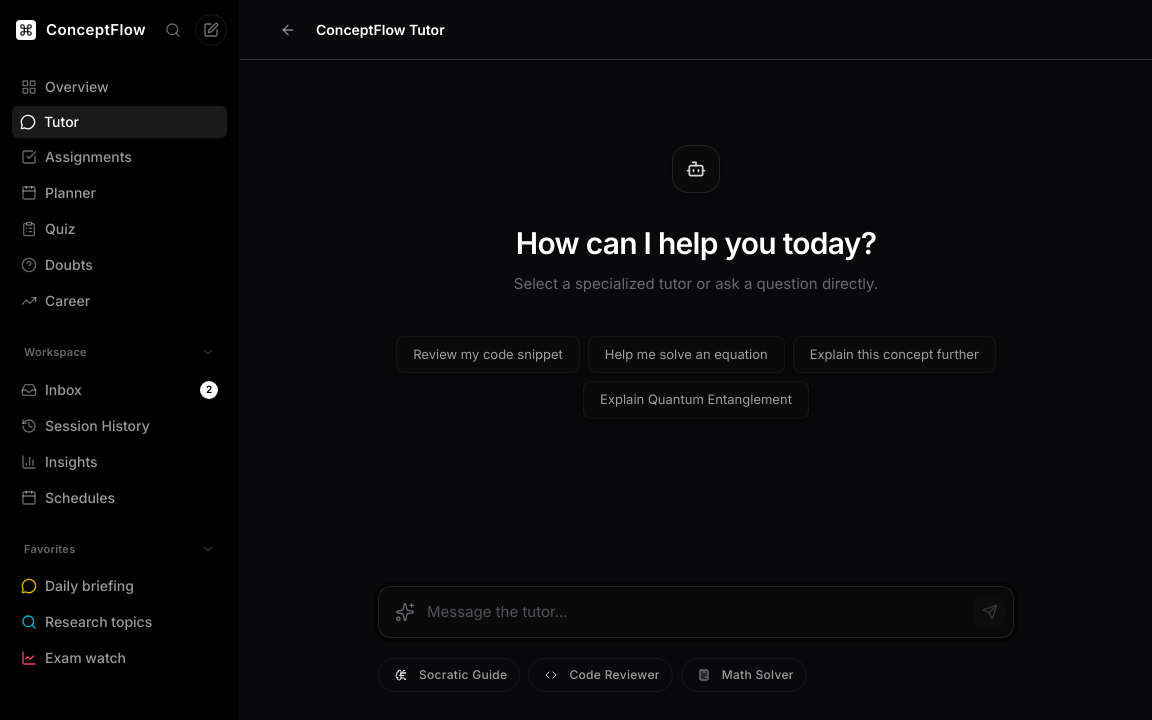
Test: Session & doubt resolution › Tutor page: chips fill the query and submit starts that topic; tutor cards prefill
Click the button "Explain Quantum Entanglement" at [696, 400], box [583,381,809,419]
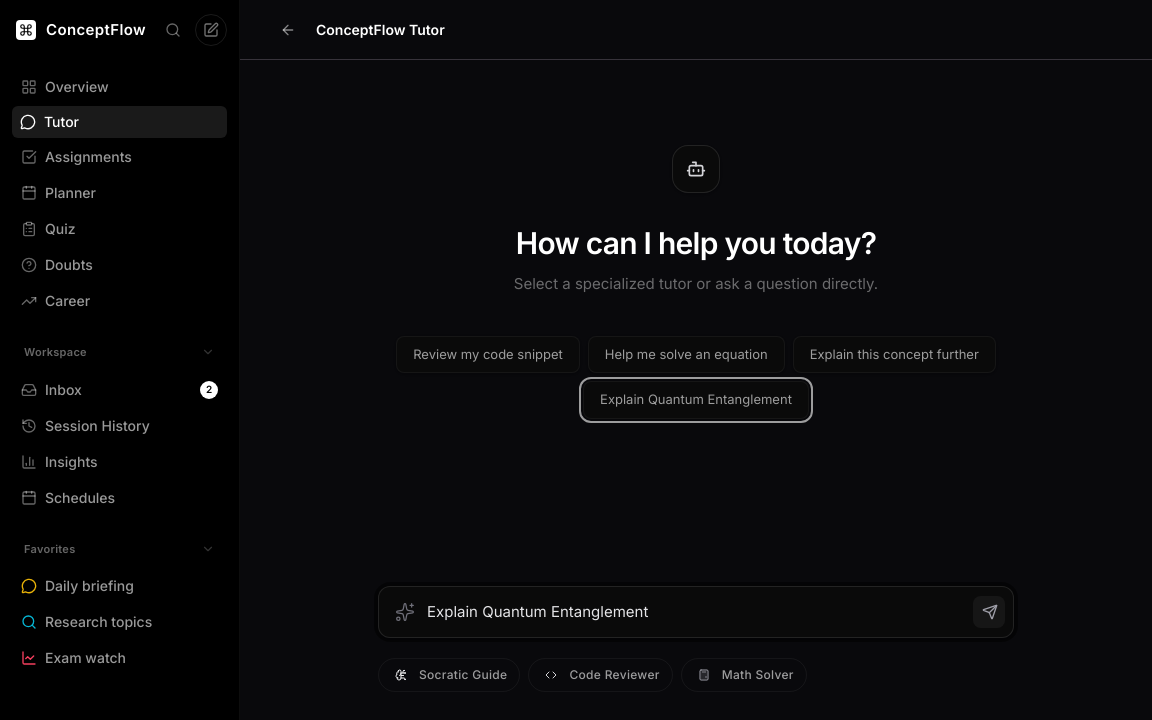
Click the submit button at [989, 612], box [973,596,1005,628]
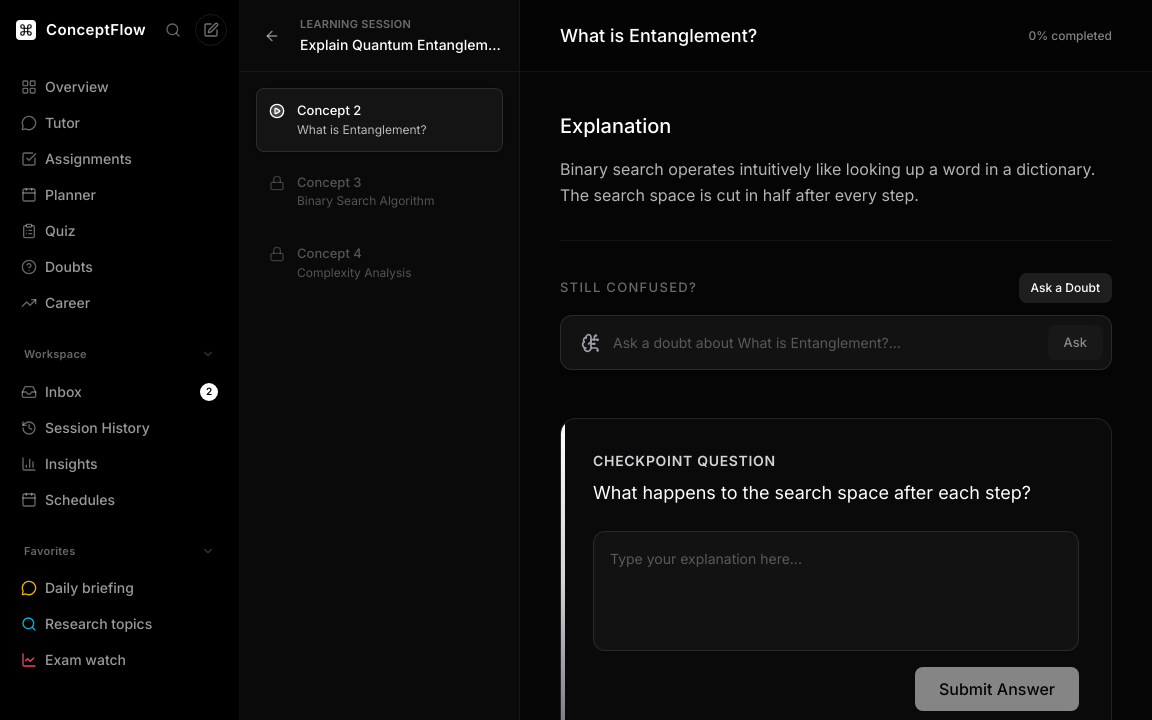
Check: the heading "What is Entanglement?" is shown, box [560,22,757,50]
